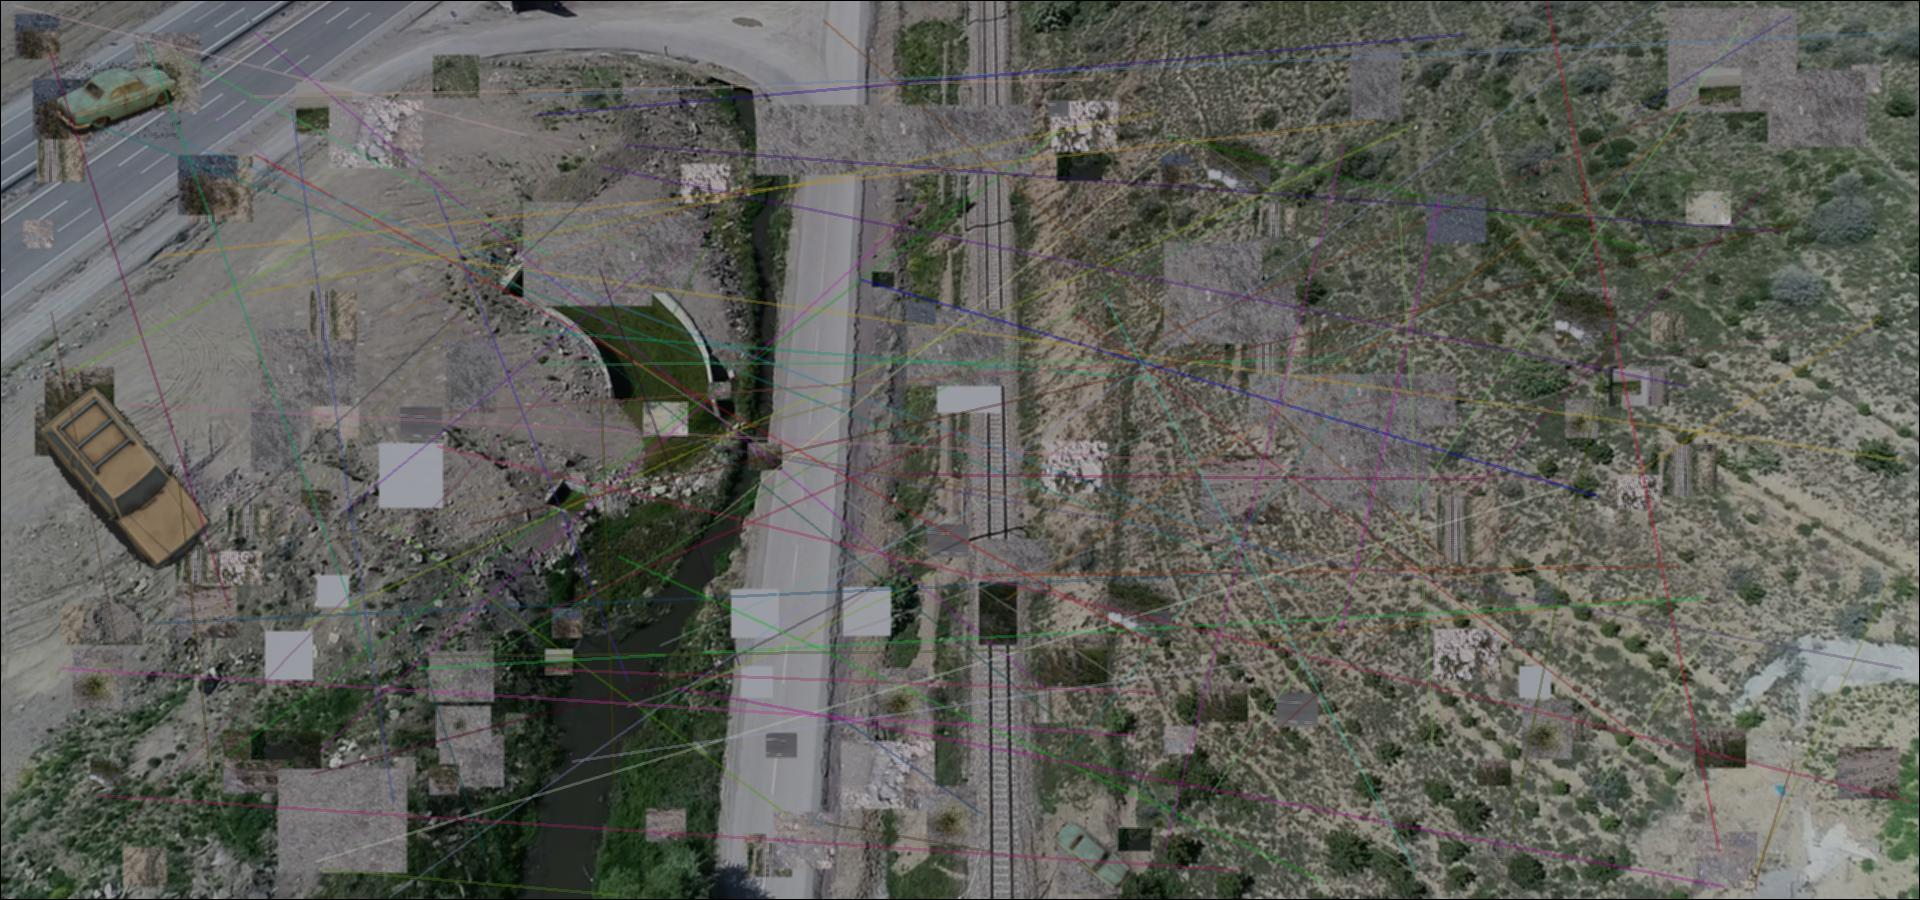arac: (40, 378, 214, 573), (58, 62, 181, 140), (1051, 813, 1133, 890)
